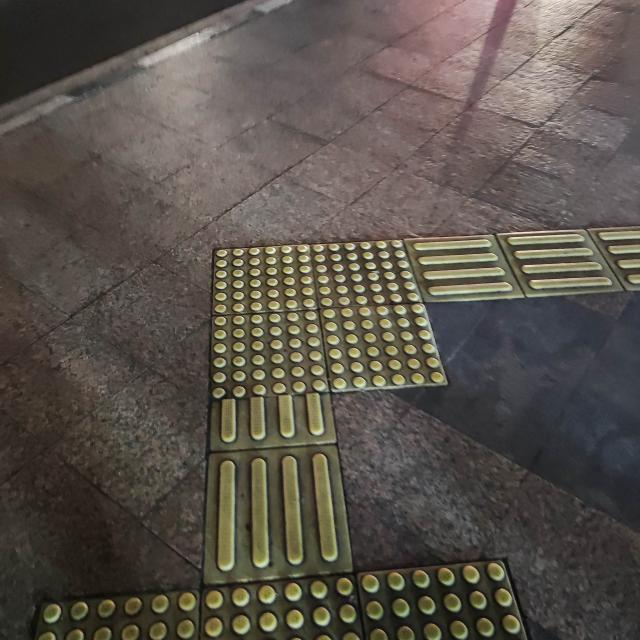kanan: (158, 198, 610, 466)
